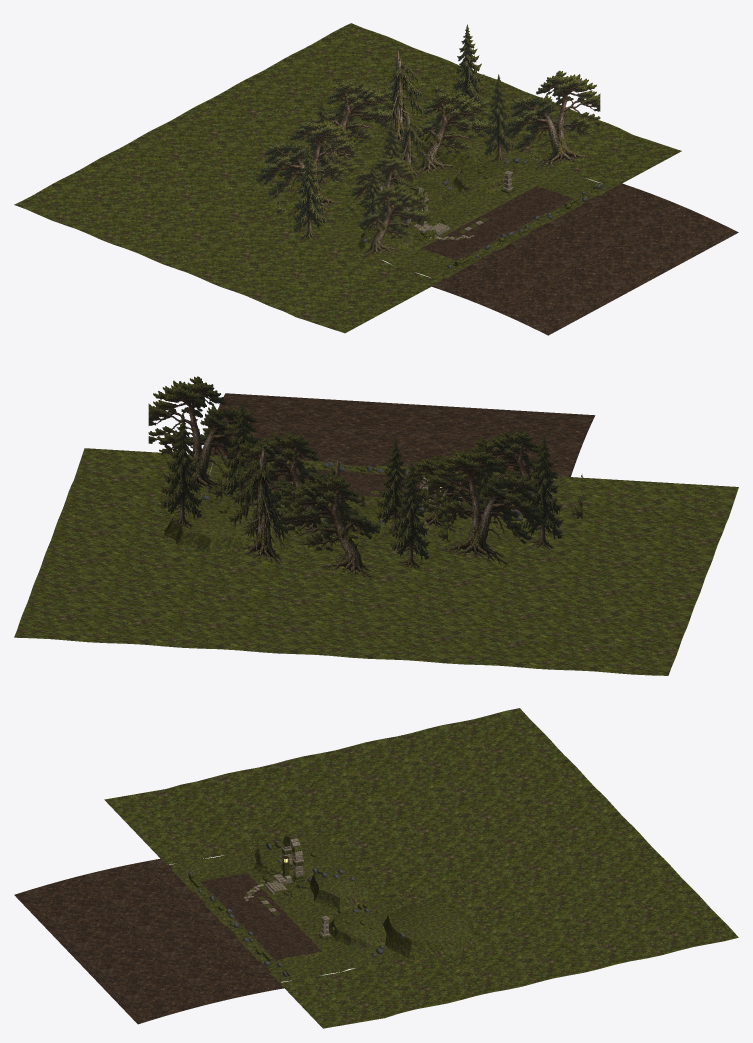
File: mossbound_full_stage.fbx
3 views of the same model, one above another, from view 1: azimuth 30°, elevation 25°; view 2: azimuth 150°, elevation 25°; view 3: azimuth 270°, elevation 25° (orthographic). The views are drawn at different scales.
Visible parts, largest first — view 1: StageBatch_12, StageBatch_14, StageBatch_02, StageBatch_09, StageBatch_07, StageBatch_08, StageBatch_11, StageBatch_10, StageBatch_00, StageBatch_01; view 2: StageBatch_12, StageBatch_14, StageBatch_09, StageBatch_08, StageBatch_07, StageBatch_11, StageBatch_02, StageBatch_10; view 3: StageBatch_12, StageBatch_14, StageBatch_02, StageBatch_11, StageBatch_00, StageBatch_01, StageBatch_04.
Boxes of the visible parts, left/top/right/bottom form: StageBatch_12: left=14, top=23, right=681, bottom=333; StageBatch_14: left=432, top=183, right=738, bottom=335; StageBatch_02: left=319, top=149, right=613, bottom=280; StageBatch_09: left=256, top=70, right=600, bottom=216; StageBatch_07: left=317, top=79, right=489, bottom=259; StageBatch_08: left=276, top=24, right=516, bottom=240; StageBatch_11: left=358, top=119, right=518, bottom=253; StageBatch_10: left=367, top=50, right=428, bottom=179; StageBatch_00: left=360, top=165, right=598, bottom=266; StageBatch_01: left=401, top=170, right=513, bottom=239; StageBatch_12: left=14, top=448, right=738, bottom=675; StageBatch_14: left=210, top=393, right=595, bottom=476; StageBatch_09: left=148, top=376, right=546, bottom=565; StageBatch_08: left=160, top=402, right=582, bottom=569; StageBatch_07: left=239, top=429, right=558, bottom=580; StageBatch_11: left=164, top=493, right=526, bottom=552; StageBatch_02: left=200, top=455, right=550, bottom=547; StageBatch_10: left=228, top=446, right=364, bottom=563; StageBatch_12: left=104, top=708, right=738, bottom=1028; StageBatch_14: left=14, top=858, right=283, bottom=1024; StageBatch_02: left=169, top=833, right=403, bottom=982; StageBatch_11: left=254, top=842, right=476, bottom=958; StageBatch_00: left=189, top=835, right=373, bottom=975; StageBatch_01: left=244, top=838, right=330, bottom=936; StageBatch_04: left=188, top=840, right=405, bottom=976.
Size of the model in its own units: 8502 by 1795 by 8679.
13 materials, 11 textured.
